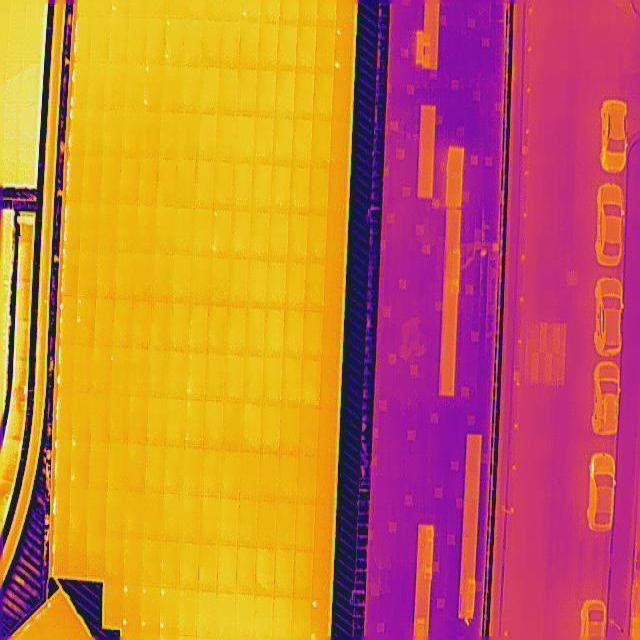Cell: (312, 600, 330, 639)
Cell-Multi: (71, 440, 90, 491), (142, 66, 164, 110), (333, 28, 352, 78), (139, 585, 160, 630), (76, 297, 95, 345), (165, 19, 184, 66), (66, 156, 84, 204), (122, 584, 141, 628), (60, 297, 77, 345), (62, 252, 79, 298), (161, 588, 179, 630)
No-Anomaly: (181, 495, 204, 543), (182, 447, 204, 495), (219, 451, 241, 499), (254, 547, 276, 595), (292, 551, 314, 599), (305, 261, 326, 311), (245, 306, 266, 356), (283, 310, 304, 360), (185, 352, 206, 402), (201, 18, 222, 68), (88, 440, 109, 490), (212, 210, 233, 259), (170, 255, 191, 304), (223, 355, 244, 404), (235, 548, 257, 594), (121, 110, 142, 158), (112, 300, 133, 348), (296, 25, 317, 73), (143, 492, 164, 540), (199, 496, 220, 544), (276, 502, 297, 550), (274, 550, 295, 598), (311, 552, 332, 600), (233, 162, 253, 212), (80, 202, 100, 252), (323, 262, 343, 312), (94, 298, 114, 348), (132, 300, 152, 350), (189, 304, 209, 354), (264, 308, 284, 358), (303, 311, 323, 361), (223, 402, 243, 452), (242, 402, 262, 452), (261, 404, 281, 454), (239, 20, 259, 70), (292, 119, 313, 166), (140, 109, 160, 158), (309, 166, 329, 215), (286, 261, 306, 310), (169, 303, 189, 352), (207, 305, 227, 354), (129, 348, 149, 397), (166, 351, 186, 400), (319, 360, 339, 409), (110, 393, 130, 442), (164, 446, 184, 495), (297, 455, 317, 504), (282, 359, 303, 405), (300, 360, 321, 406), (277, 454, 298, 500), (216, 546, 237, 592), (198, 68, 219, 114), (236, 70, 257, 116), (177, 160, 197, 208), (253, 164, 273, 212), (328, 167, 348, 215), (173, 207, 193, 255), (78, 250, 98, 298), (134, 252, 154, 300), (248, 260, 268, 308), (90, 392, 110, 440), (165, 400, 185, 448), (203, 401, 223, 449), (299, 407, 319, 455), (145, 445, 165, 493), (201, 450, 221, 498), (239, 452, 259, 500), (125, 491, 145, 539), (238, 500, 258, 548), (257, 500, 277, 548), (275, 70, 295, 118), (103, 108, 122, 158), (100, 202, 119, 252), (250, 212, 269, 262), (269, 212, 288, 262), (230, 258, 249, 308), (242, 357, 263, 402), (262, 358, 283, 403), (294, 505, 315, 550), (197, 114, 217, 161), (217, 114, 237, 161), (311, 121, 331, 168), (205, 354, 225, 401), (126, 444, 146, 491), (198, 544, 218, 591), (256, 69, 276, 116), (121, 156, 140, 205), (215, 161, 234, 210), (74, 345, 93, 394), (147, 398, 166, 447), (280, 406, 299, 455), (218, 500, 239, 544), (293, 74, 314, 118), (178, 112, 198, 158), (255, 118, 275, 164), (135, 206, 155, 252), (192, 209, 212, 255), (288, 214, 308, 260), (210, 259, 230, 305), (258, 24, 278, 70), (259, 454, 279, 500), (315, 28, 335, 74), (106, 492, 126, 538), (87, 64, 107, 110), (179, 66, 199, 112), (236, 115, 255, 163), (158, 158, 177, 206), (196, 161, 215, 209), (272, 165, 291, 213), (290, 166, 309, 214), (117, 205, 136, 253), (155, 206, 174, 254), (97, 252, 116, 300), (116, 252, 135, 300), (191, 256, 210, 304), (227, 307, 246, 355), (111, 346, 130, 394), (92, 346, 111, 394), (149, 350, 168, 398), (109, 16, 128, 64), (128, 396, 147, 444), (185, 400, 204, 448), (108, 442, 127, 490), (162, 65, 181, 113), (151, 301, 169, 351), (221, 18, 239, 68), (317, 455, 335, 505), (163, 495, 183, 540), (313, 75, 333, 120), (274, 119, 293, 166), (140, 159, 159, 206), (307, 214, 326, 261), (322, 311, 340, 360), (83, 158, 103, 202), (87, 491, 107, 535), (104, 536, 124, 580), (124, 64, 144, 108), (102, 158, 121, 204), (146, 18, 165, 64), (72, 392, 91, 438), (318, 409, 337, 455), (278, 25, 297, 71), (313, 505, 332, 551), (124, 538, 143, 584), (161, 542, 180, 588), (180, 542, 199, 588), (104, 580, 123, 626), (219, 69, 238, 115), (331, 76, 350, 122), (85, 110, 103, 158), (327, 215, 345, 263), (269, 261, 287, 309), (91, 15, 109, 63), (128, 17, 147, 62), (142, 540, 161, 585), (161, 111, 179, 158), (330, 122, 349, 166), (86, 534, 105, 578), (106, 65, 125, 109), (232, 212, 250, 258), (154, 255, 172, 301), (184, 20, 202, 66), (69, 532, 87, 576), (56, 392, 73, 438), (179, 590, 198, 631), (69, 491, 87, 534), (217, 592, 236, 632), (273, 597, 293, 635), (255, 595, 274, 634), (198, 592, 217, 630), (236, 594, 255, 632), (292, 599, 311, 636)
Unclassified: (54, 439, 71, 491), (57, 345, 75, 394), (71, 64, 90, 110), (69, 110, 87, 158), (74, 16, 91, 64), (52, 532, 69, 578), (65, 202, 81, 250), (53, 490, 71, 531)
